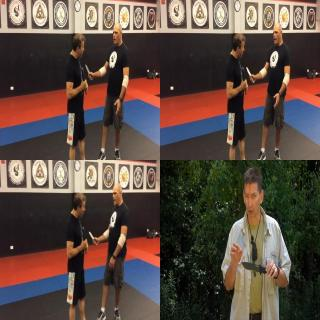knife: (240, 259, 274, 279), (245, 64, 255, 84), (88, 230, 98, 246), (84, 62, 92, 80)
